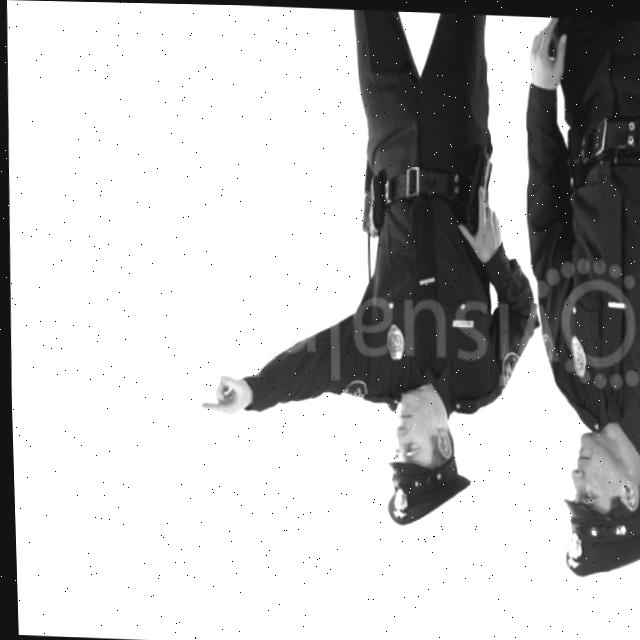pistol: (462, 172, 478, 230)
